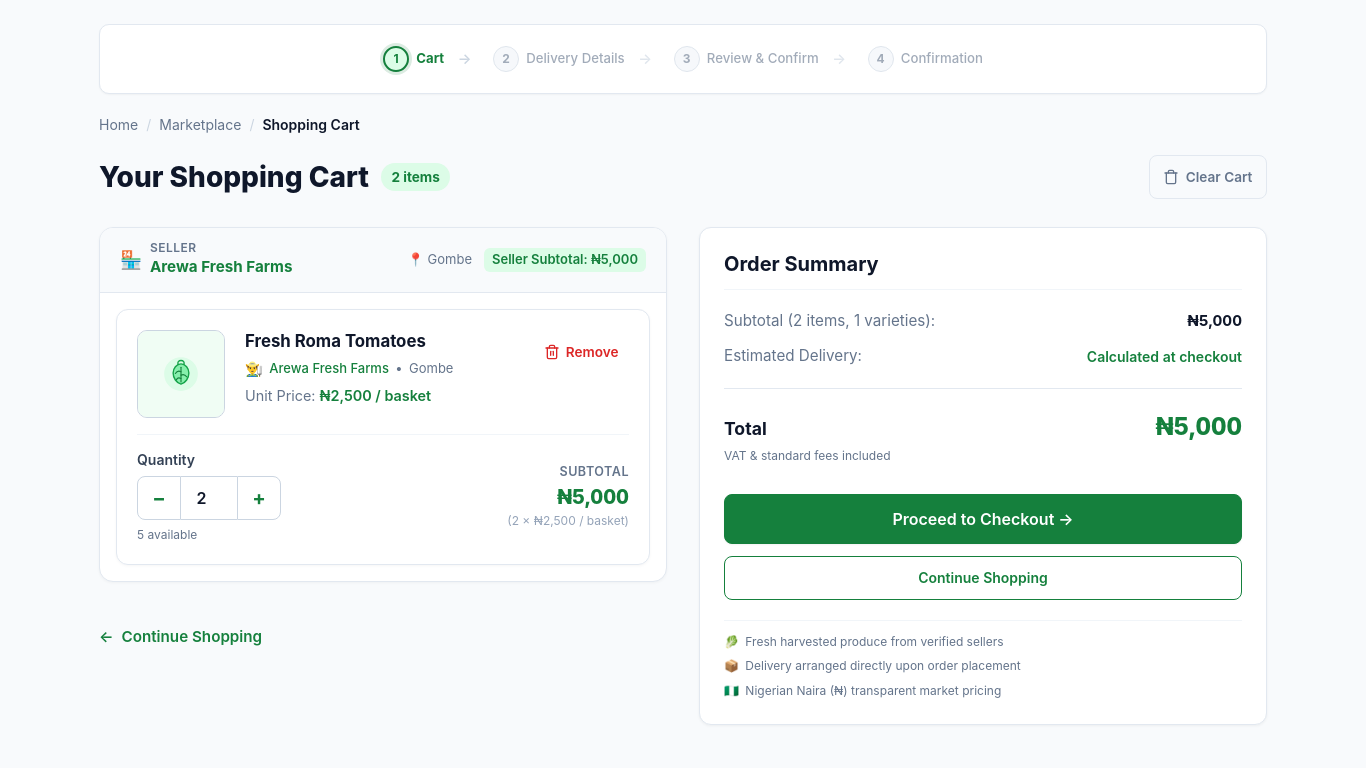
Test: Add / Update / Remove Cart Items (FE-055 / CART-01 to CART-03, BR-02, BR-04) › Cart Page Interactive Add/Update/Remove UI Flow › allows buyer to increment, decrement, and delete cart line directly from Cart UI
The width and height of the screenshot is (1366, 768).
expect the link "Fresh Roma Tomatoes" is shown: met, box [245,331,426,351]
expect the element with test id "cart-item-subtotal-1" shows "₦5,000": met, box [557,484,629,508]
Click the button named "Increase quantity": (259, 498) [237,476,281,520]
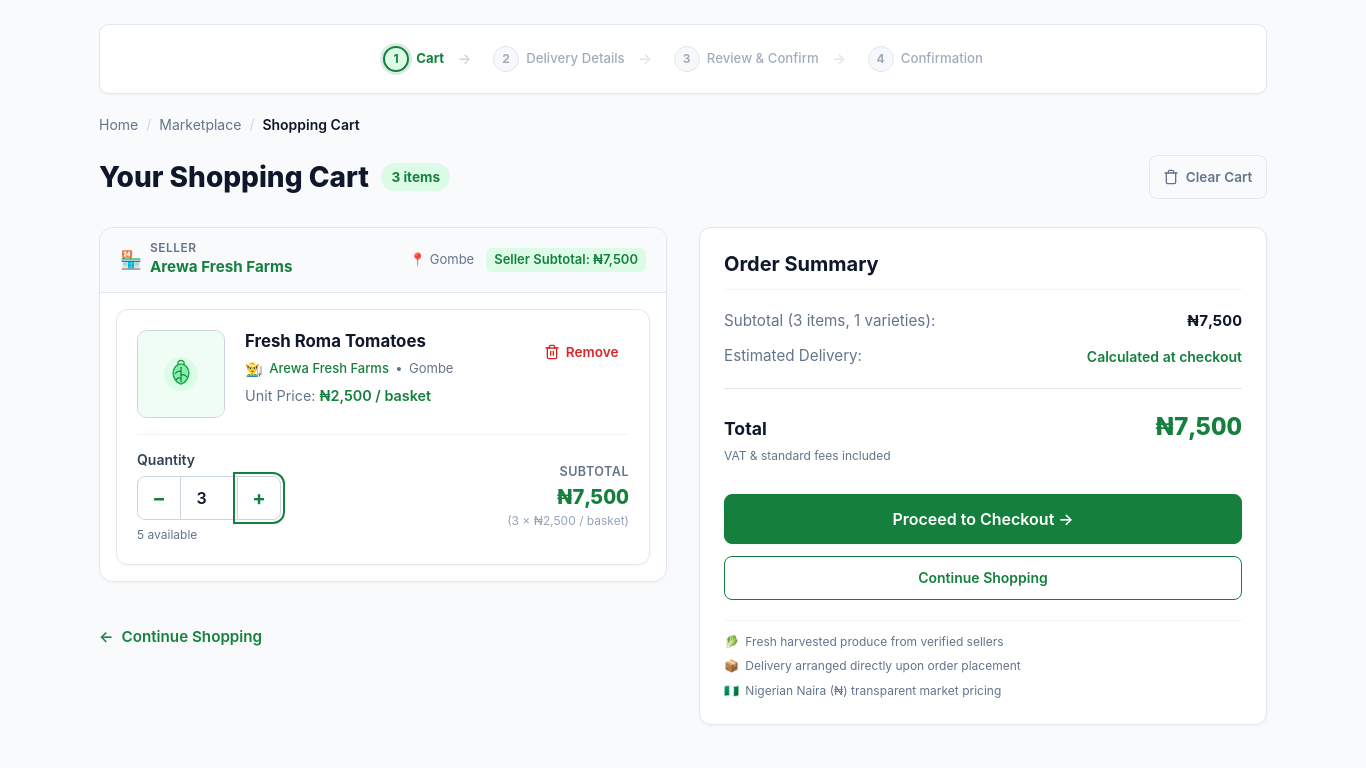
expect the element with test id "cart-item-subtotal-1" shows "₦7,500": met, box [557,484,629,508]
expect the text with test id "cart-grand-total" reads "₦7,500": met, box [1156,412,1242,441]
Click the button named "Decrease quantity": (159, 498) [137,476,181,520]
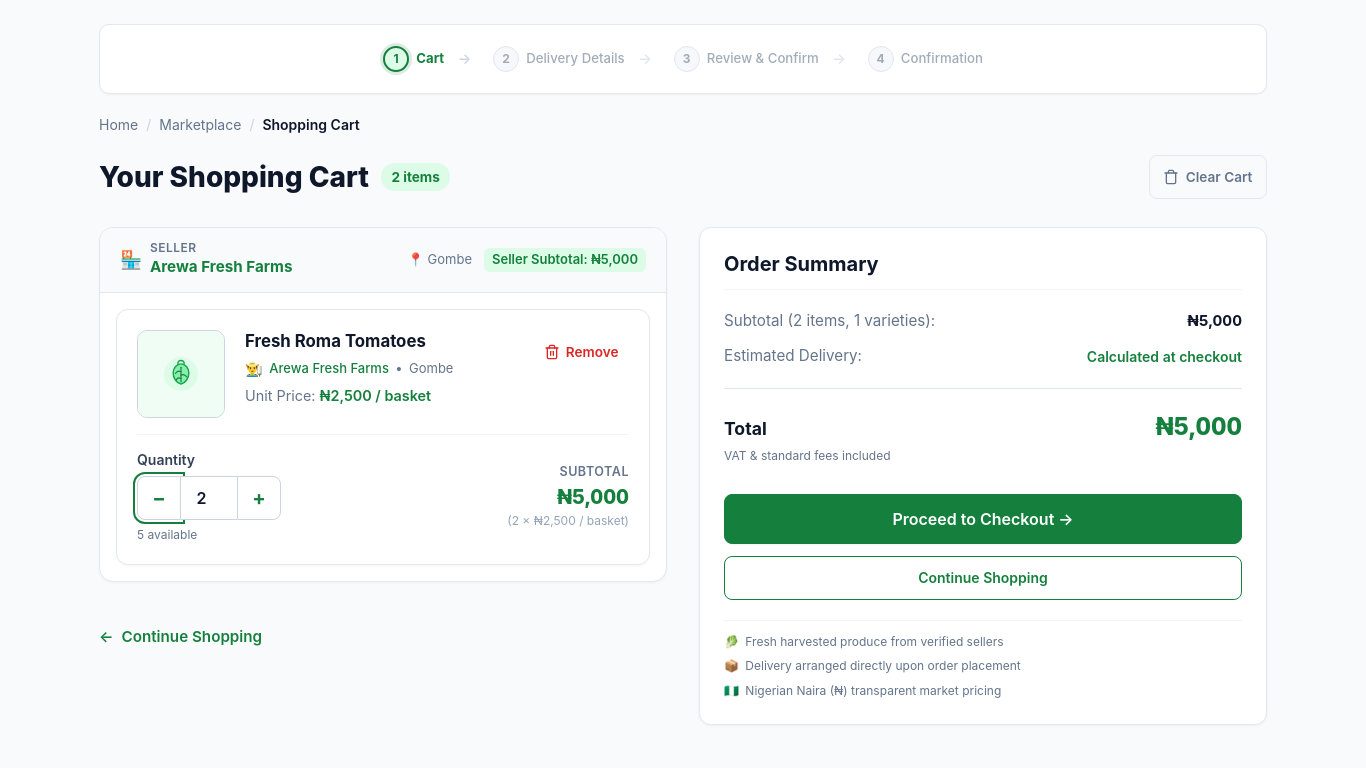
expect the element with test id "cart-item-subtotal-1" shows "₦5,000": met, box [557,484,629,508]
# Click remove button
Click the button with test id "cart-remove-button-1": (581, 352) [534,330,629,374]
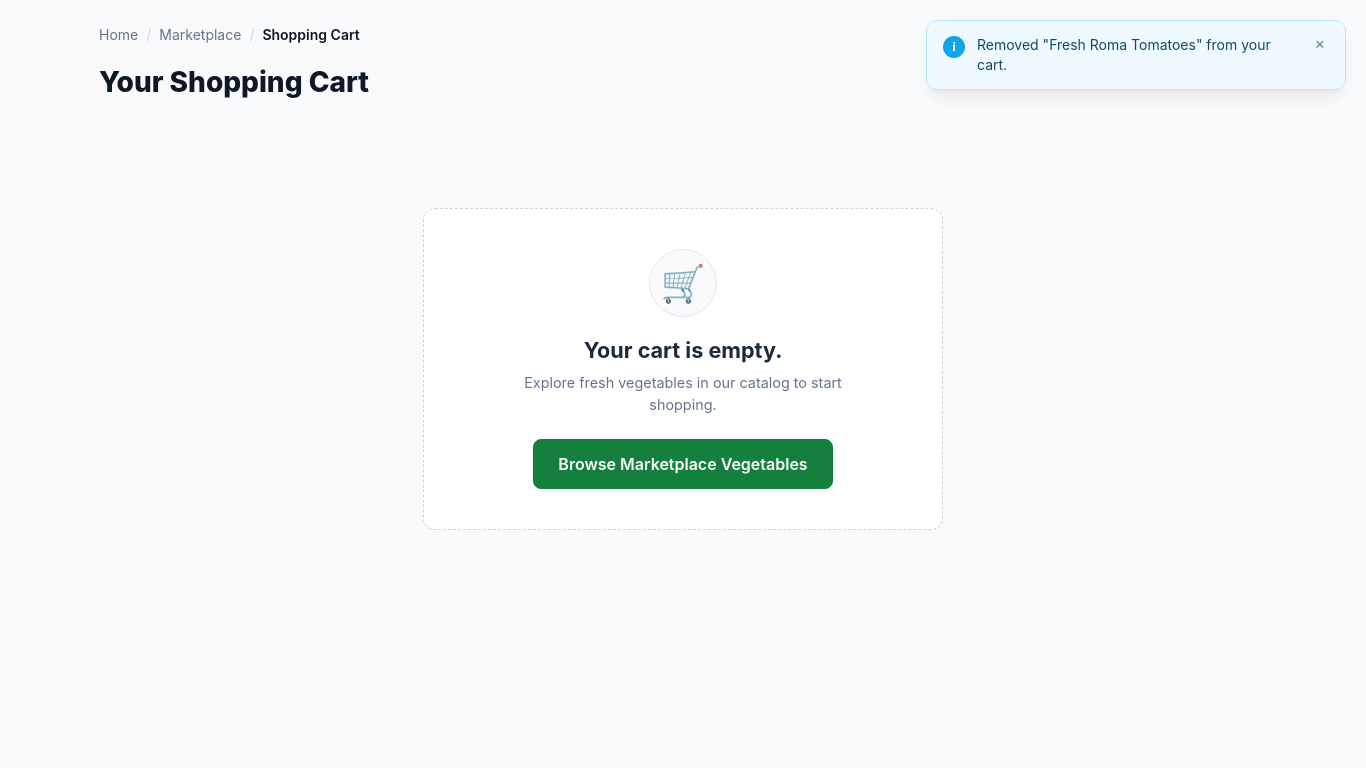
expect the heading "Your cart is empty." is shown: met, box [584,337,782,363]
